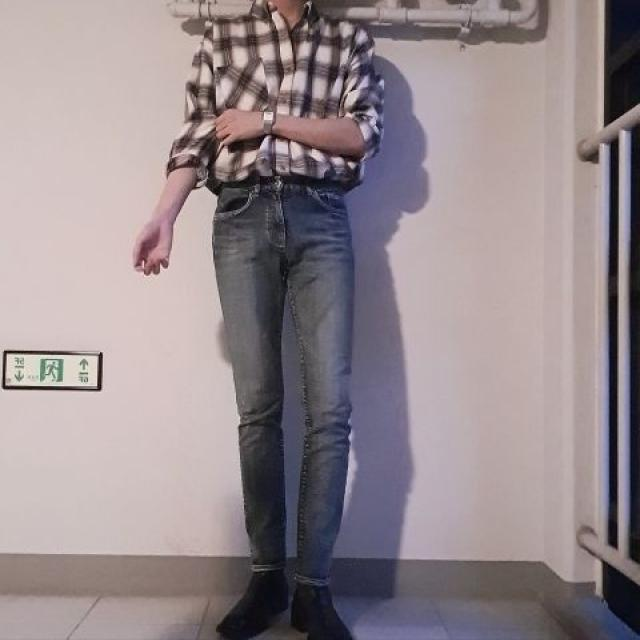denimpants: (211, 183, 357, 591)
shirt: (164, 0, 388, 190)
